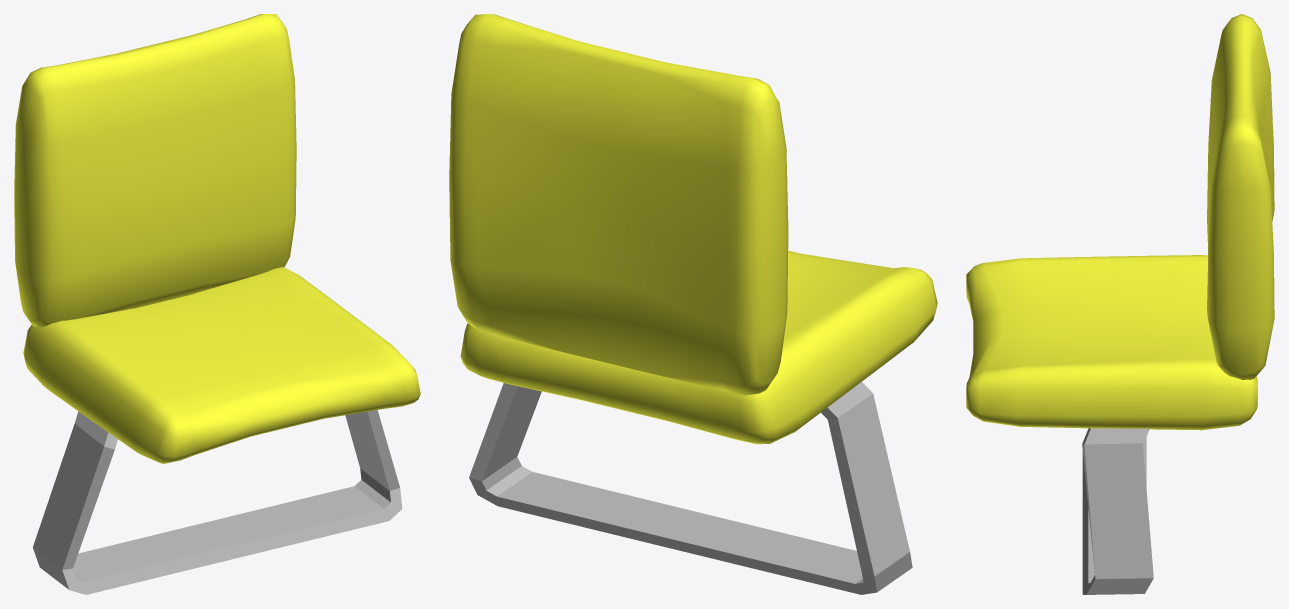
The model's file is Props_Chair_04.fbx.
3 renders of one model, left to right at view 1: azimuth 30°, elevation 25°; view 2: azimuth 150°, elevation 25°; view 3: azimuth 270°, elevation 25°, orthographic. The views are drawn at different scales.
Parts seen in each view (by area): view 1: Props_Chair_04; view 2: Props_Chair_04; view 3: Props_Chair_04.
Part boxes in pixels (x1=…): Props_Chair_04: x1=14, y1=14, x2=420, y2=594; Props_Chair_04: x1=449, y1=14, x2=937, y2=594; Props_Chair_04: x1=966, y1=14, x2=1274, y2=594.
Size of the model in its own units: 67.27 by 87.3 by 53.9.
